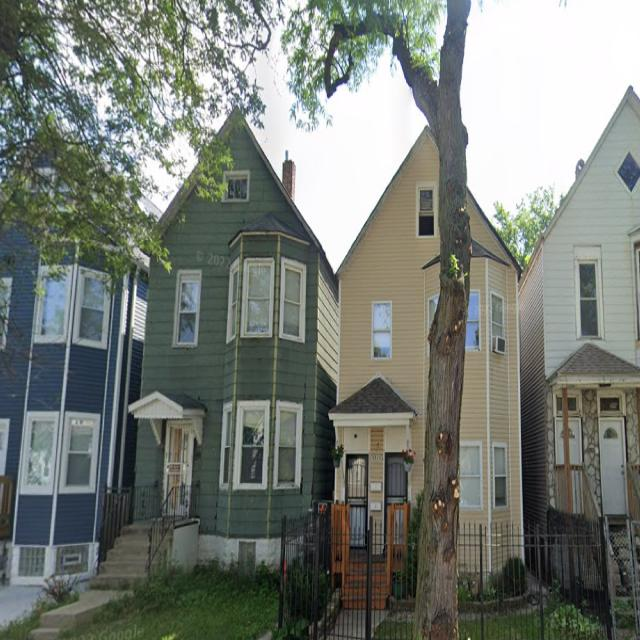House: (92, 98, 339, 593), (330, 122, 524, 619), (0, 132, 166, 586), (520, 85, 640, 598)
